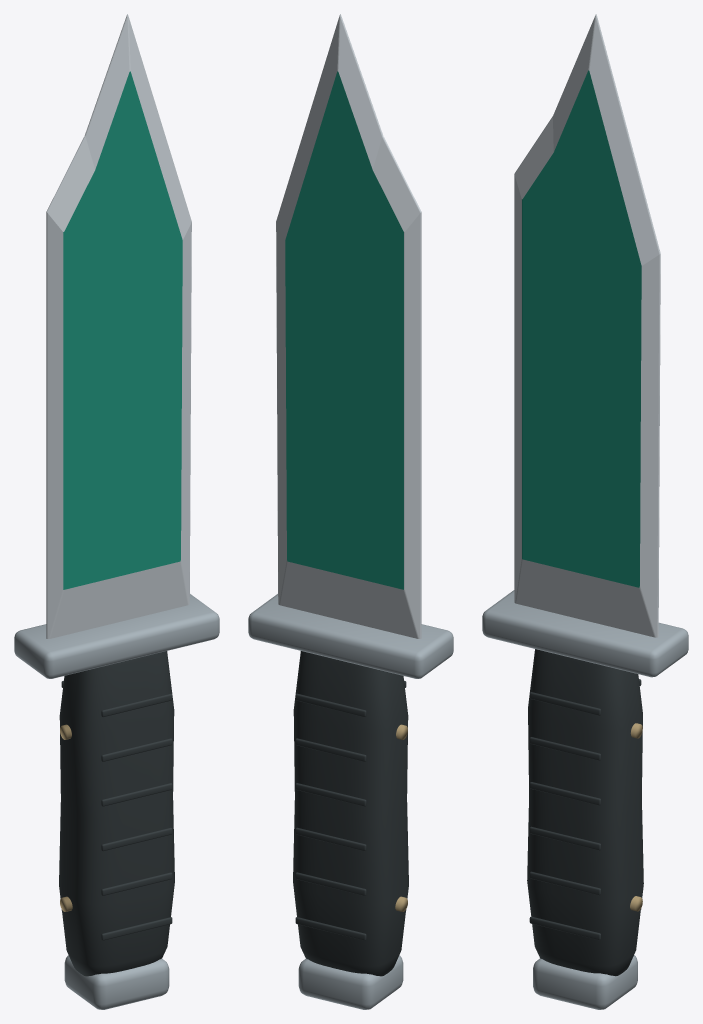
Rendered from knife_01.glb.
3 renders of one model, left to right at view 1: azimuth 30°, elevation 25°; view 2: azimuth 150°, elevation 25°; view 3: azimuth 330°, elevation 25°, orthographic.
Parts seen in each view (by area): view 1: Blade, Contoured full-tang grip, Full tang hand guard, Solid tang pommel, Inset grip traction.008, Inset grip traction, Inset grip traction.002, Inset grip traction.010, Inset grip traction.006, Inset grip traction.004; view 2: Blade, Contoured full-tang grip, Full tang hand guard, Solid tang pommel, Inset grip traction.009, Inset grip traction.001, Inset grip traction.003, Inset grip traction.011, Inset grip traction.007, Inset grip traction.005; view 3: Blade, Contoured full-tang grip, Full tang hand guard, Solid tang pommel, Inset grip traction.002, Inset grip traction.008, Inset grip traction.006, Inset grip traction, Inset grip traction.010, Inset grip traction.004.
Boxes of the visible parts, x1,y1,x2,y2 form: Blade: (46, 14, 191, 638); Contoured full-tang grip: (59, 651, 174, 976); Full tang hand guard: (14, 594, 219, 678); Solid tang pommel: (64, 955, 169, 1009); Inset grip traction.008: (101, 738, 172, 761); Inset grip traction: (101, 917, 172, 940); Inset grip traction.002: (101, 872, 172, 895); Inset grip traction.010: (101, 693, 172, 717); Inset grip traction.006: (101, 783, 172, 806); Inset grip traction.004: (101, 827, 172, 851); Blade: (276, 14, 421, 638); Contoured full-tang grip: (293, 651, 408, 976); Full tang hand guard: (248, 594, 453, 678); Solid tang pommel: (298, 955, 403, 1009); Inset grip traction.009: (295, 738, 366, 761); Inset grip traction.001: (295, 917, 366, 940); Inset grip traction.003: (295, 872, 366, 895); Inset grip traction.011: (295, 693, 366, 717); Inset grip traction.007: (295, 783, 366, 806); Inset grip traction.005: (295, 827, 366, 851); Blade: (514, 14, 660, 637); Contoured full-tang grip: (527, 649, 643, 976); Full tang hand guard: (482, 590, 688, 677); Solid tang pommel: (533, 955, 637, 1009); Inset grip traction.002: (529, 871, 600, 895); Inset grip traction.008: (529, 737, 600, 760); Inset grip traction.006: (529, 782, 600, 805); Inset grip traction: (529, 916, 600, 940); Inset grip traction.010: (529, 692, 600, 715); Inset grip traction.004: (529, 826, 600, 850).
Size of the model in its own units: 0.0615 by 0.3276 by 0.0253.
